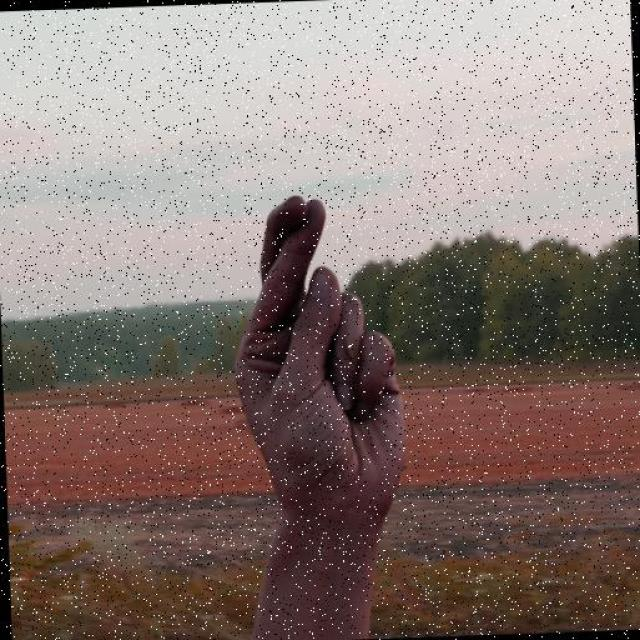R: (192, 148, 464, 573)
